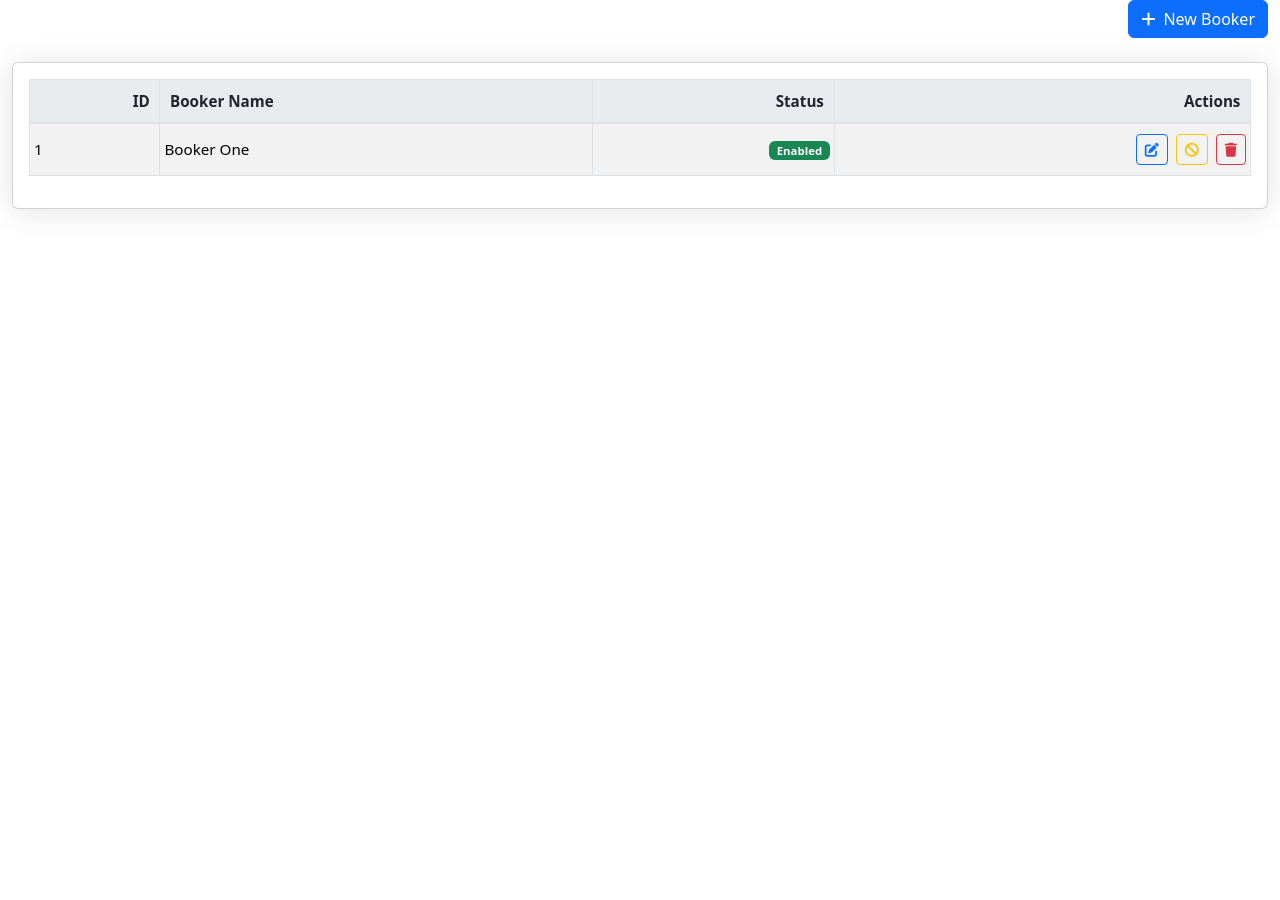
Test: Bookers dialogs › shows a failed delete inside the confirmation dialog
This screenshot has width=1280, height=900.
Click the 4th button at (1231, 150), box [1216,134,1246,165]
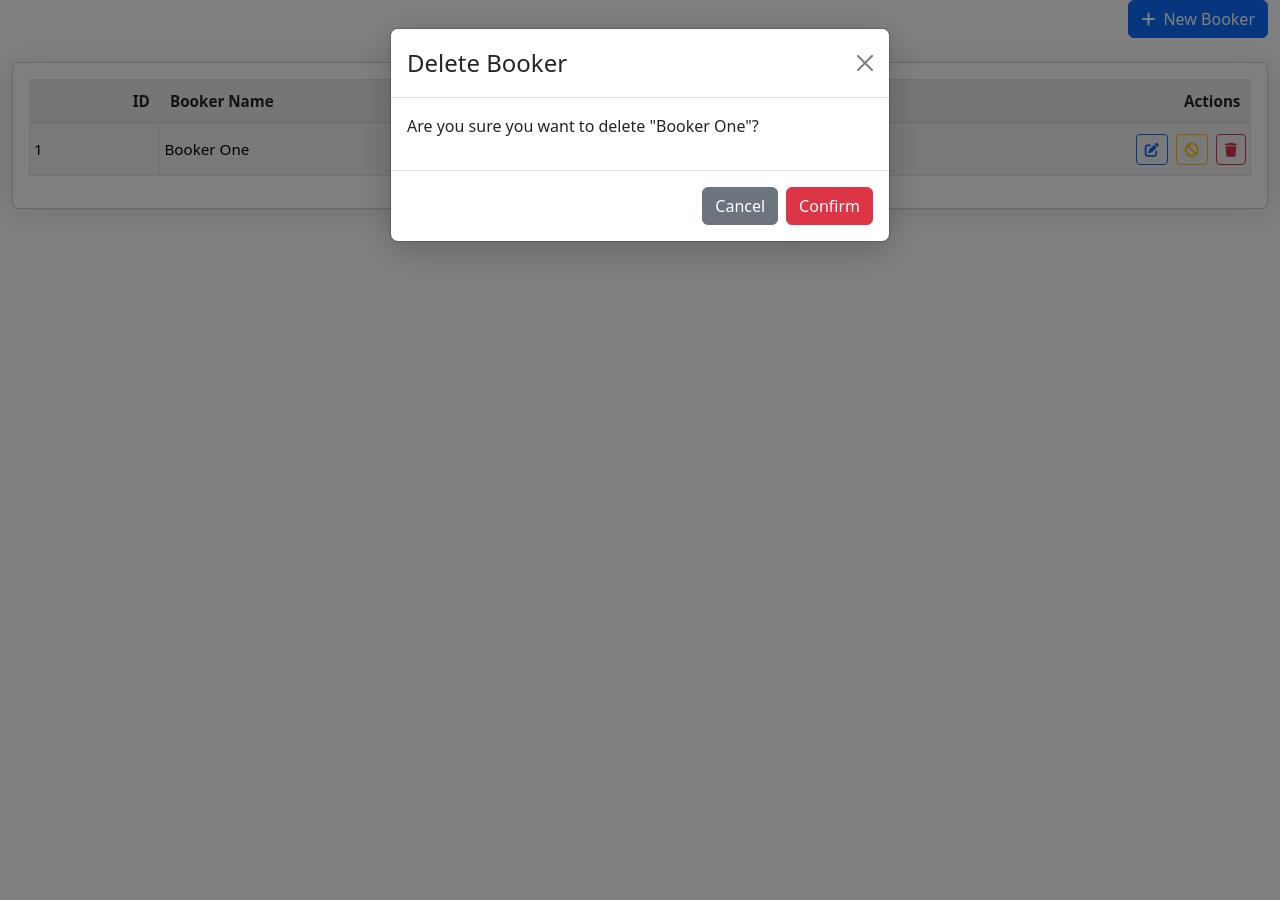
Click the button "Confirm" at (830, 206), box [786,187,873,225]
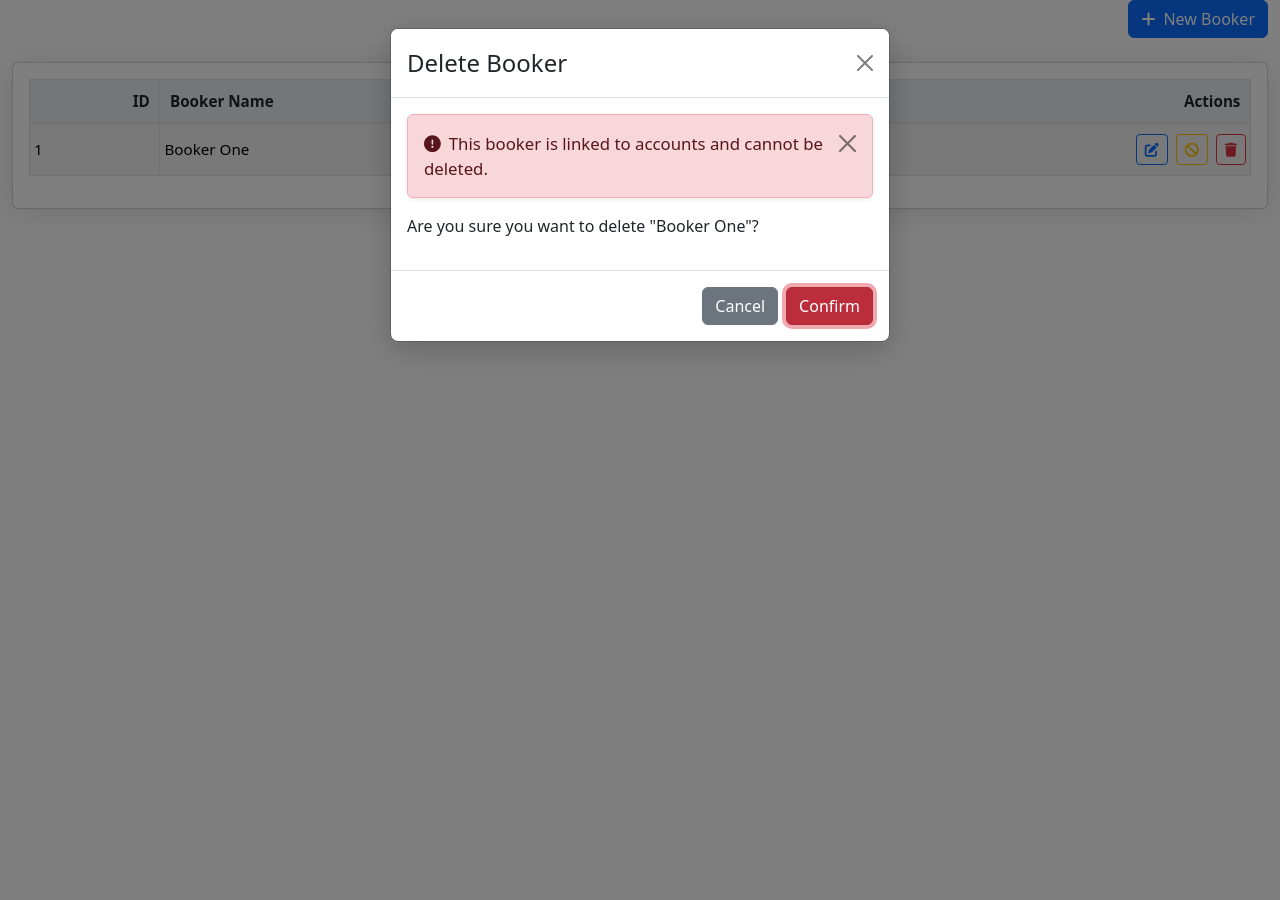
Expected: the text "This booker is linked to accounts and cannot be deleted." is shown, [407,114,873,198]
